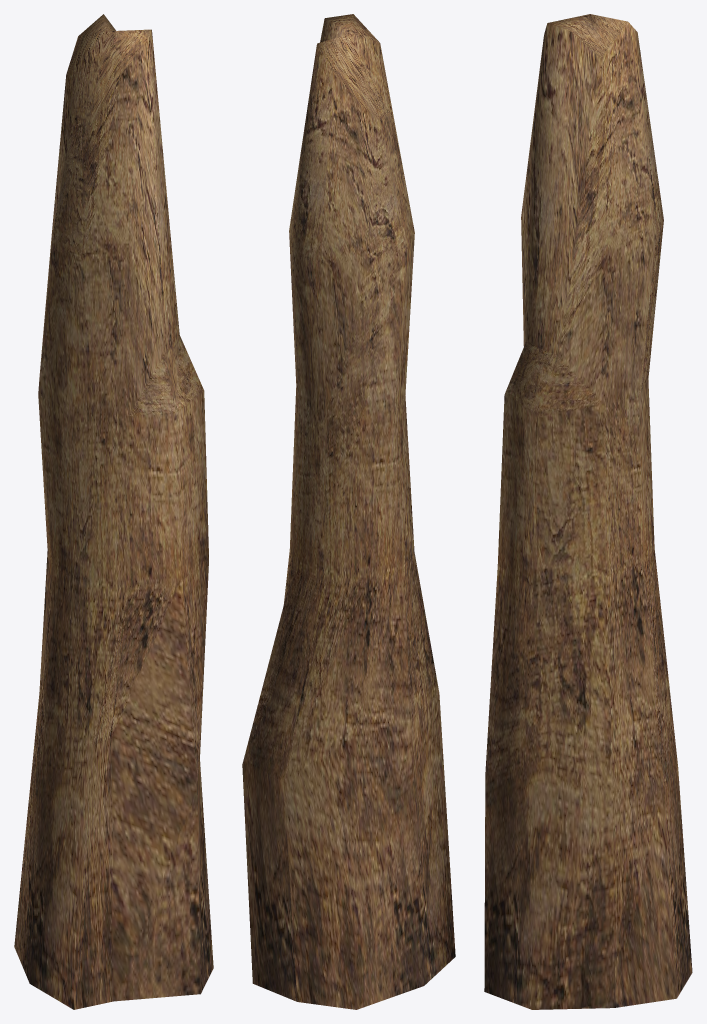
The model's file is w_cd_cliff_m_big01.glb.
3 renders of one model, left to right at view 1: azimuth 30°, elevation 25°; view 2: azimuth 150°, elevation 25°; view 3: azimuth 270°, elevation 25°, orthographic. The views are drawn at different scales.
Visible parts, largest first — view 1: w_cd_cliff_m_big01; view 2: w_cd_cliff_m_big01; view 3: w_cd_cliff_m_big01.
Part boxes in pixels (left/top/right/bottom): w_cd_cliff_m_big01: left=14, top=14, right=213, bottom=1009; w_cd_cliff_m_big01: left=242, top=14, right=455, bottom=1009; w_cd_cliff_m_big01: left=484, top=14, right=692, bottom=1009.
Bounding box in the file's own units: 13.27 × 77.07 × 15.19.
1 material, 1 textured.
